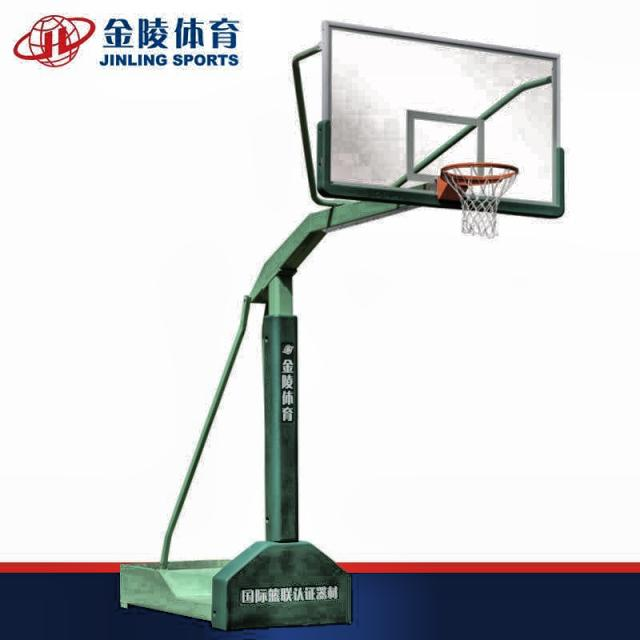rim: (440, 161, 520, 238)
